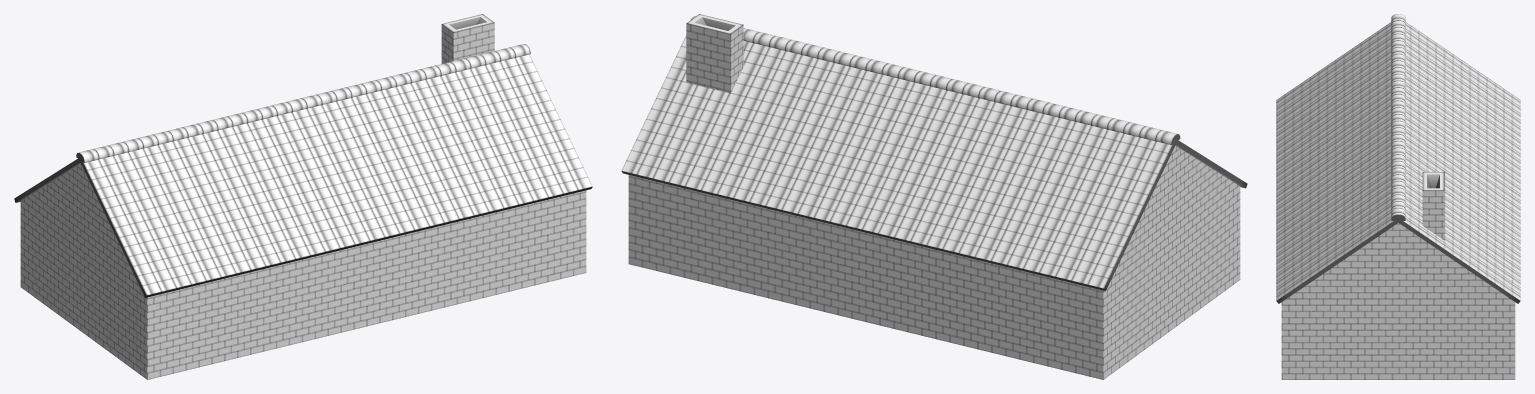
The model's file is Roof.fbx.
3 renders of one model, left to right at view 1: azimuth 30°, elevation 25°; view 2: azimuth 150°, elevation 25°; view 3: azimuth 270°, elevation 25°, orthographic. The views are drawn at different scales.
Visible parts, largest first — view 1: Roof; view 2: Roof; view 3: Roof.
Boxes of the visible parts, x1,y1,x2,y2 form: Roof: (14, 14, 592, 379); Roof: (621, 14, 1247, 379); Roof: (1276, 14, 1520, 379).
Bounding box in the file's own units: 16.27 × 6.9 × 8.37.
